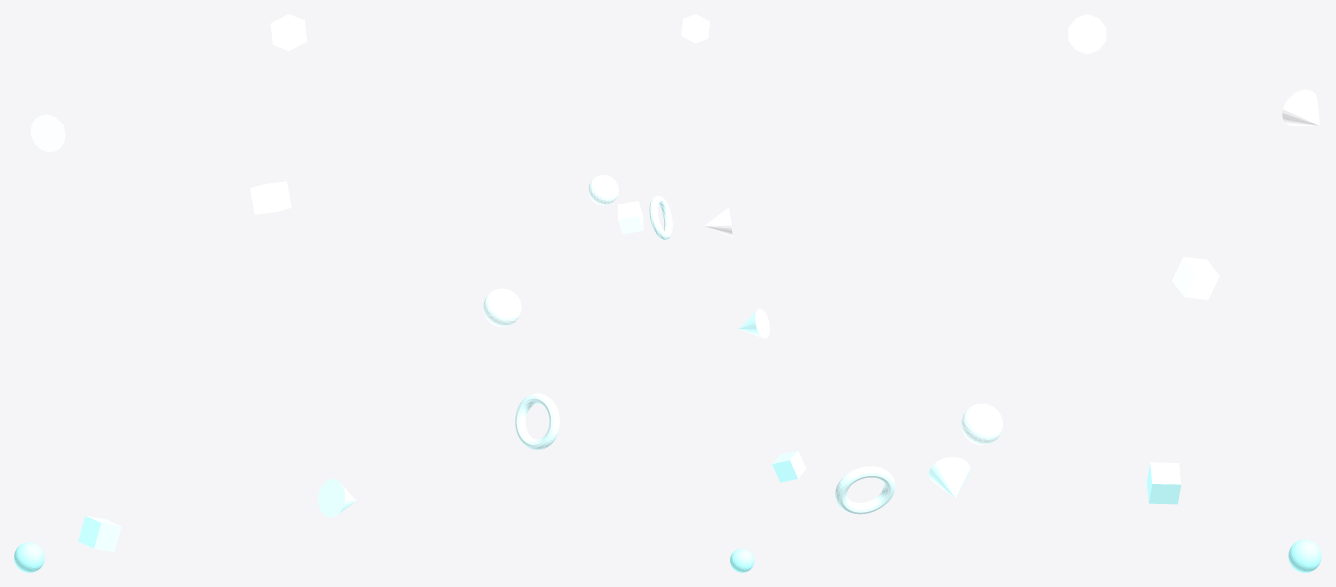
The picture shows the model from 3 angles, left to right: view 1: azimuth 30°, elevation 25°; view 2: azimuth 150°, elevation 25°; view 3: azimuth 270°, elevation 25°; orthographic projection. The views are drawn at different scales.
Visible parts, largest first — view 1: Piece_character_mask_3, Piece_character_mask_4, Piece_character_mask_1, Piece_character_mask_5, VFXProxy_character_mask, Piece_character_mask_6, Piece_character_mask_2, Piece_character_mask_0; view 2: Piece_character_mask_1, Piece_character_mask_4, Piece_character_mask_3, Piece_character_mask_5, VFXProxy_character_mask, Piece_character_mask_2, Piece_character_mask_0, Piece_character_mask_6; view 3: Piece_character_mask_3, Piece_character_mask_5, Piece_character_mask_4, Piece_character_mask_1, VFXProxy_character_mask, Piece_character_mask_2, Piece_character_mask_6, Piece_character_mask_0.
Boxes of the visible parts, x1,y1,x2,y2 form: Piece_character_mask_3: (515, 393, 559, 450); Piece_character_mask_4: (483, 288, 521, 326); Piece_character_mask_1: (78, 516, 121, 551); Piece_character_mask_5: (250, 181, 291, 214); VFXProxy_character_mask: (270, 14, 306, 50); Piece_character_mask_6: (31, 114, 65, 151); Piece_character_mask_2: (318, 479, 355, 517); Piece_character_mask_0: (14, 542, 44, 572); Piece_character_mask_1: (772, 450, 806, 482); Piece_character_mask_4: (588, 175, 618, 205); Piece_character_mask_3: (649, 196, 672, 240); Piece_character_mask_5: (617, 201, 643, 234); VFXProxy_character_mask: (681, 14, 709, 43); Piece_character_mask_2: (739, 309, 769, 338); Piece_character_mask_0: (730, 548, 754, 572); Piece_character_mask_6: (704, 207, 733, 236); Piece_character_mask_3: (835, 466, 894, 514); Piece_character_mask_5: (1172, 257, 1219, 299); Piece_character_mask_4: (961, 403, 1002, 445); Piece_character_mask_1: (1146, 462, 1181, 504); VFXProxy_character_mask: (1068, 14, 1106, 54); Piece_character_mask_2: (929, 457, 970, 498); Piece_character_mask_6: (1282, 89, 1319, 125); Piece_character_mask_0: (1288, 539, 1321, 572).
Bounding box in the file's own units: 0.7943 × 1.27 × 0.8728.
